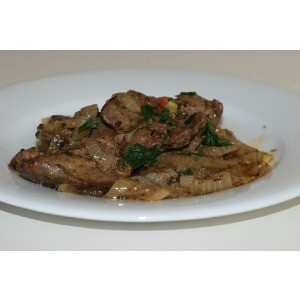liver_brain food: (48, 81, 202, 194)
